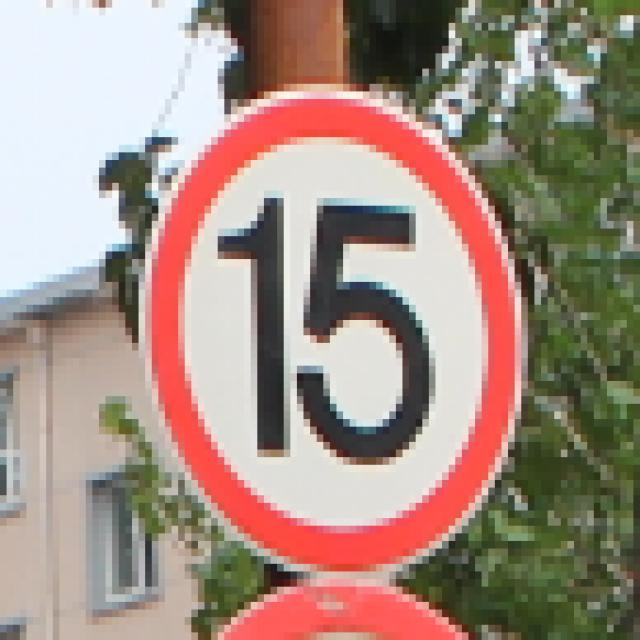Speed: (132, 58, 550, 578)
